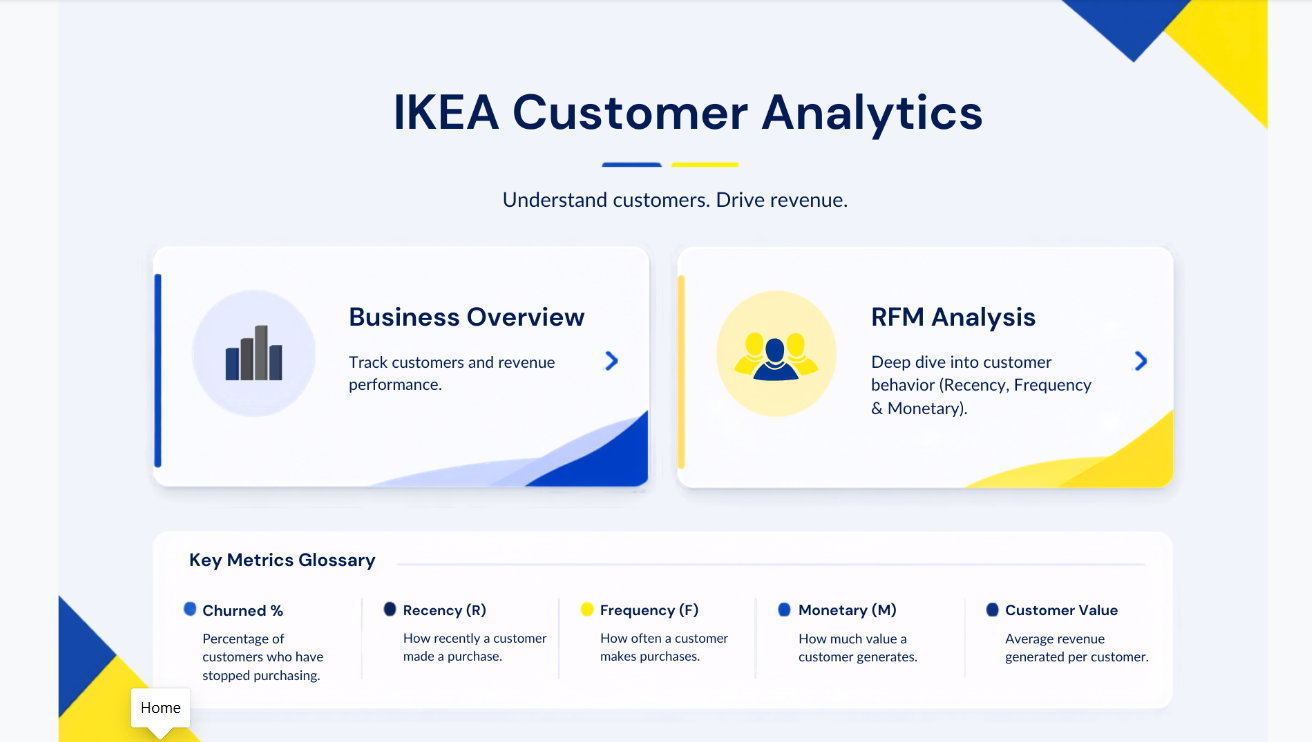

The dashboard page shown, as its layout file describes it:
{"tool":"powerbi","page":{"name":"Home","canvas":[1920,1080],"ordinal":0},"visuals":[{"type":"textbox","box":[10,0,280,280],"z":0}]}

Visuals, with their boxes in screenshot pixels (x1, y1, x2, y2), scaled from the page's 1920x1080 canvas onto the 1312x742 screenshot:
textbox: bbox=[7, 0, 198, 192]
